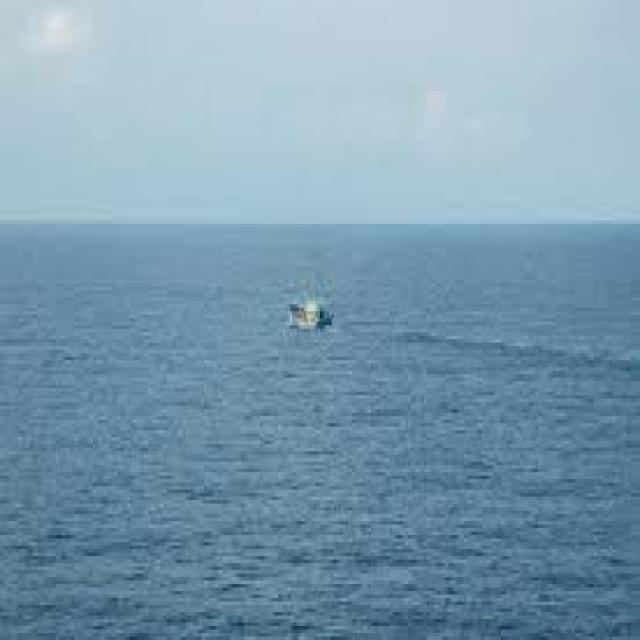fishing boat: (283, 284, 357, 341)
